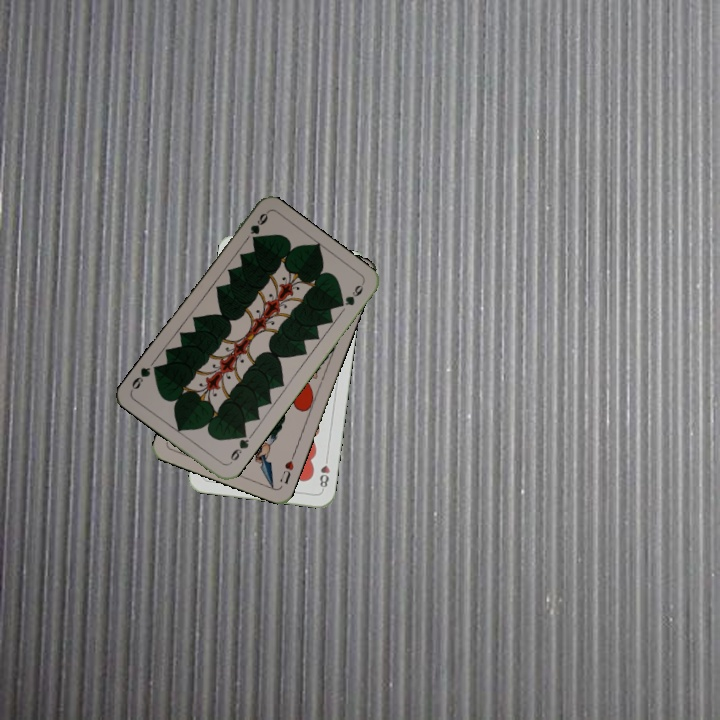G9: (225, 428, 251, 467), (246, 208, 270, 244)
H8: (316, 452, 332, 493)
HU: (276, 449, 298, 487)
